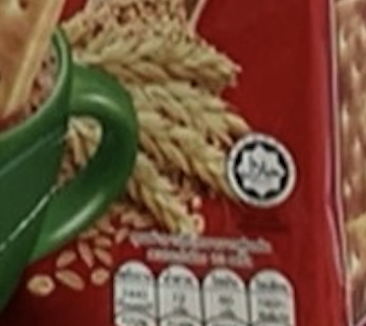halal: (238, 151, 284, 187)
